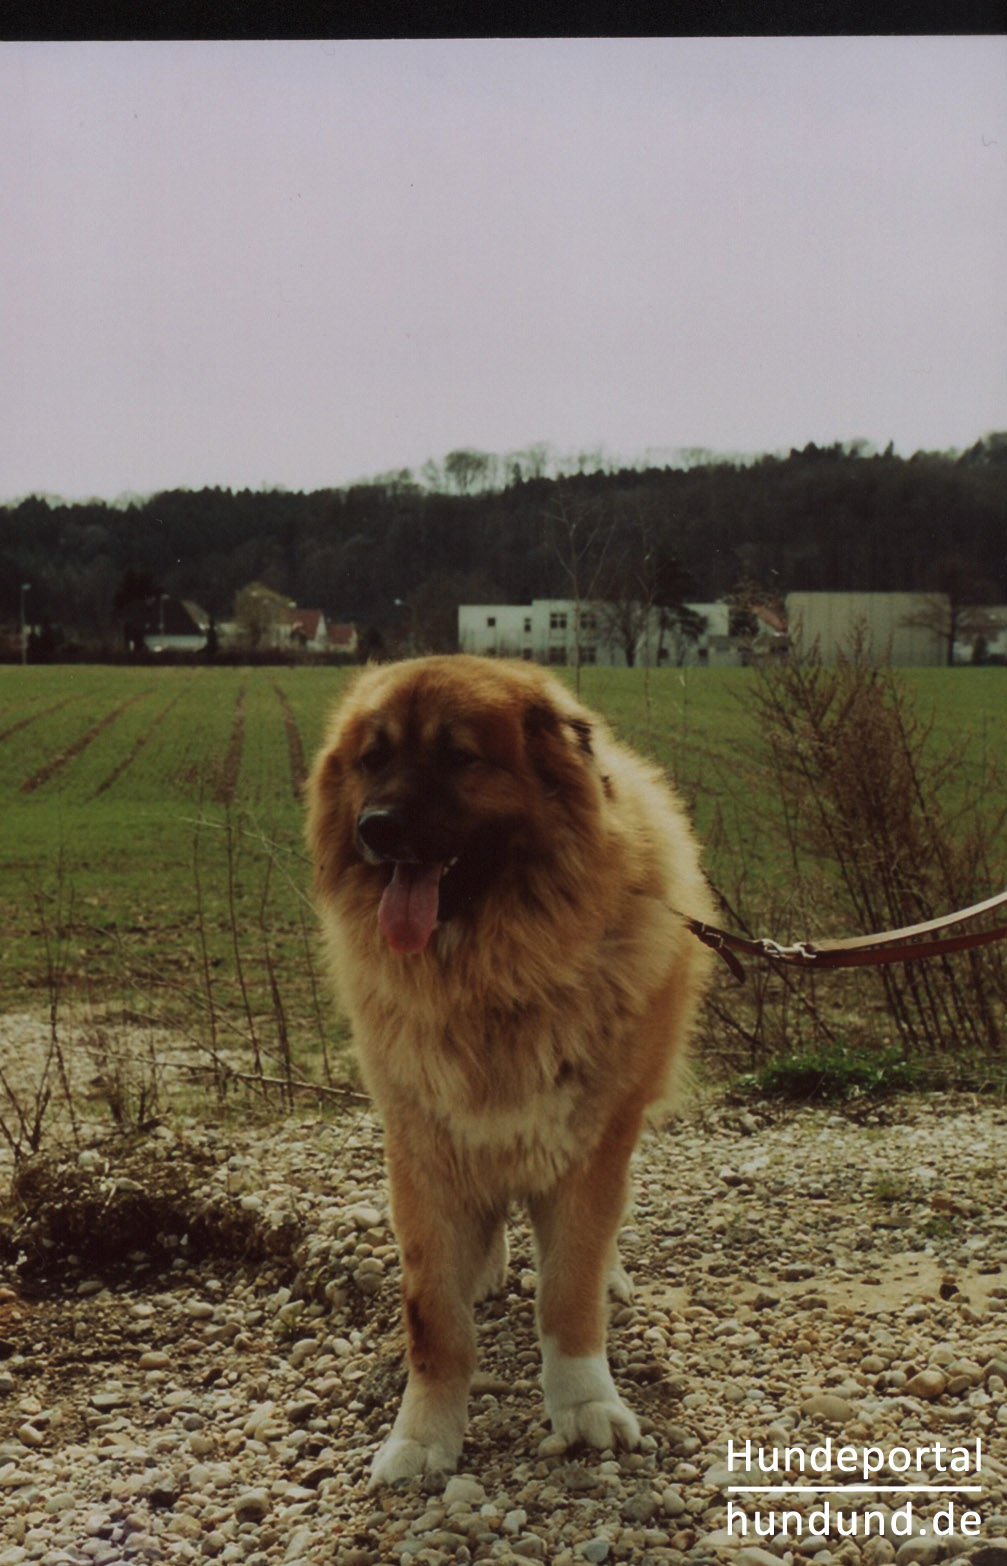cau_ovcharka: (299, 649, 719, 1490)
